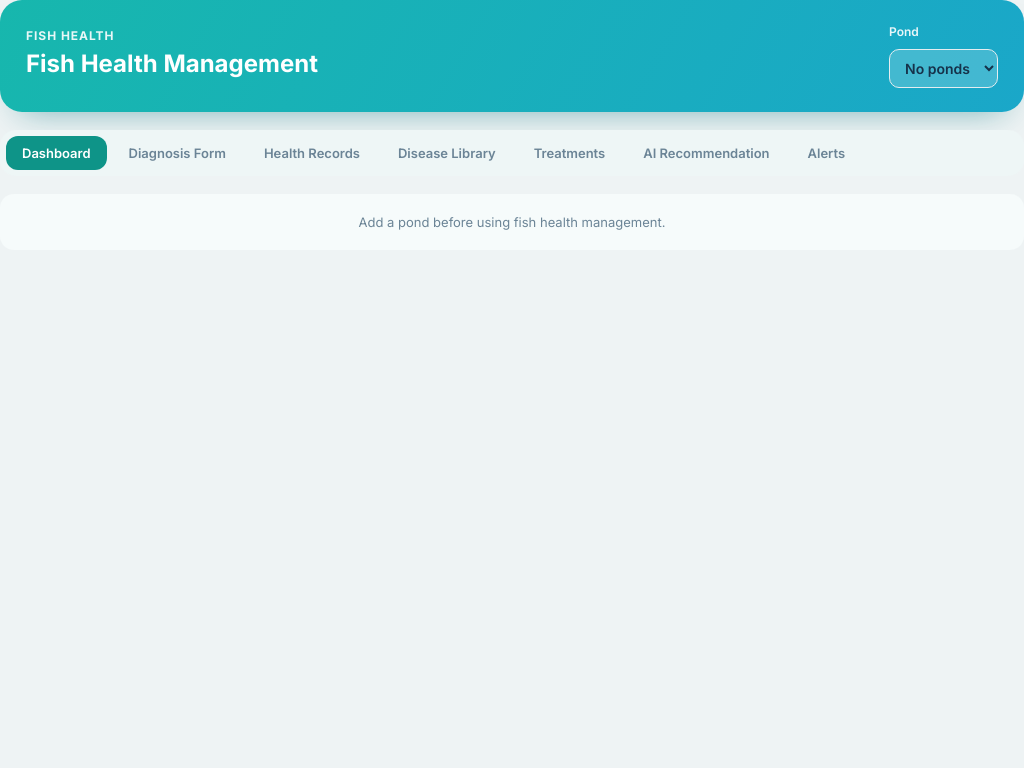
Test: FishHealthManagement › renders the disease library
The width and height of the screenshot is (1024, 768).
expect the heading "Fish Health Management" is shown: met, box [26,49,318,78]
Click the button "Disease Library". click: (447, 153)
box: [382,136,512,170]
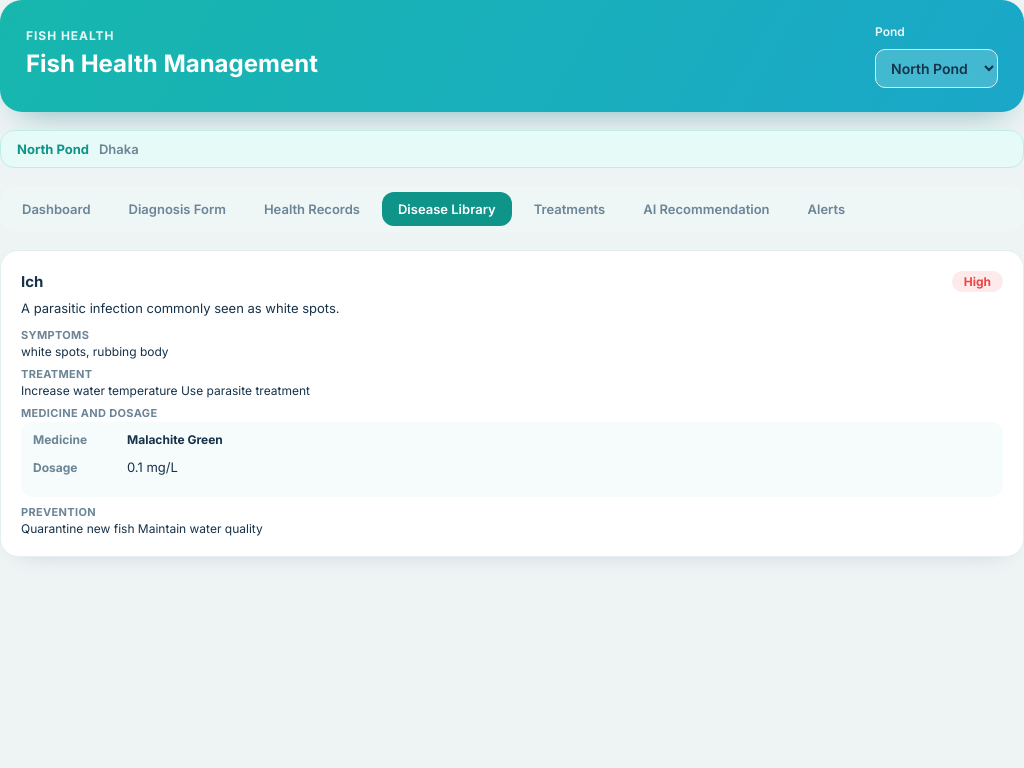
expect the heading "Ich" is shown: met, box [21,272,43,291]
expect the text "A parasitic infection commonly seen as white spots." is shown: met, box [21,300,340,316]
expect the text "Malachite Green" is shown: met, box [127,432,223,447]
